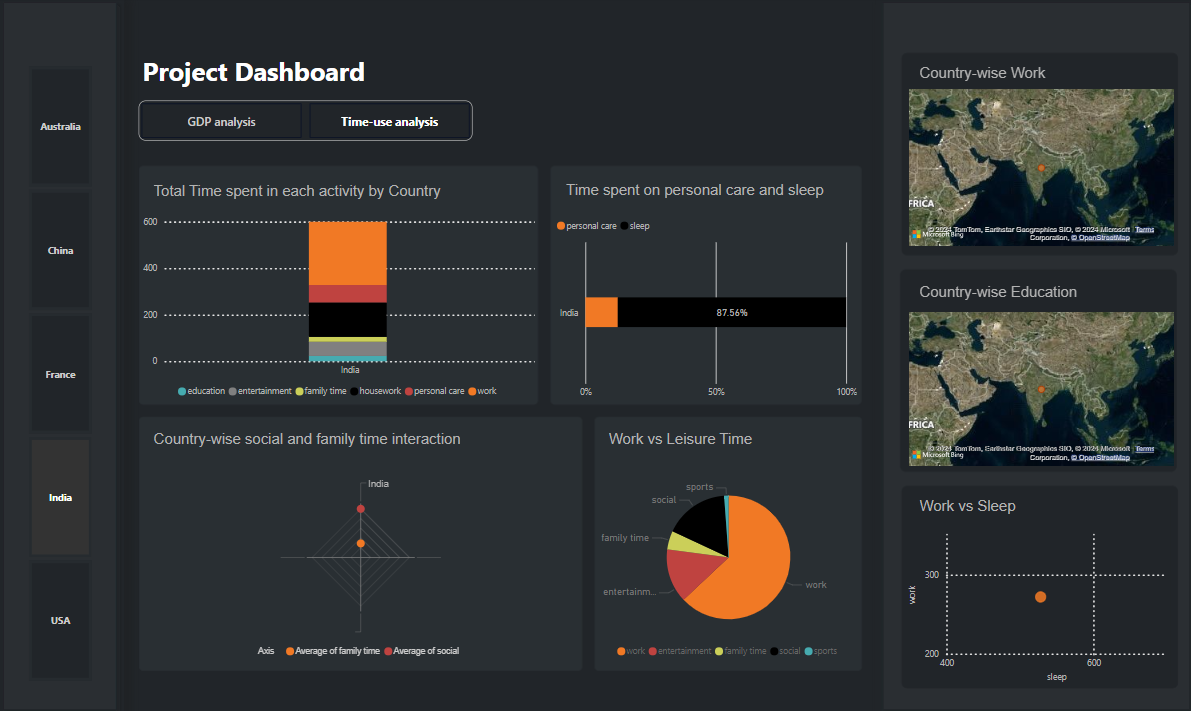

Layout of this report page (visuals, bound fields, positions):
{"tool":"powerbi","page":{"name":"Time-use analysis","canvas":[1500,900],"ordinal":1},"visuals":[{"type":"textbox","box":[177.1,67,299.1,63.6],"z":0},{"type":"pageNavigator","box":[177.1,130.7,417.7,49.9],"z":1000},{"type":"textbox","box":[190.8,538.1,462.4,32.7],"z":2000},{"type":"textbox","box":[759.8,538.1,319.8,36.1],"z":3000},{"type":"textbox","box":[706.5,226.9,361,32.7],"z":4000},{"type":"textbox","box":[191.4,228.6,474.3,31.4],"z":5000},{"type":"columnChart","fields":{"Category":["minutes.country"],"Y":["Avg(minutes.education)","Avg(minutes.entertainment)","Avg(minutes.family time)","Avg(minutes.housework)","Avg(minutes.personal care)","Sum(minutes.work)"]},"box":[177.1,268.2,500.3,244.1],"z":6000},{"type":"map","fields":{"Category":["minutes.country"],"Size":["Avg(minutes.work)"]},"box":[1134.6,111.7,342.1,206.3],"z":7000},{"type":"pieChart","fields":{"Y":["Sum(minutes.work)","Sum(minutes.entertainment)","Sum(minutes.family time)","Sum(minutes.social)","Sum(minutes.sports)"]},"box":[749.5,593.1,330.1,244.1],"z":8000},{"type":"hundredPercentStackedBarChart","title":"How people spend their time","fields":{"Category":["minutes.country"],"Y":["Sum(minutes.personal care)","Sum(minutes.sleep)"]},"box":[694.5,268.2,385.1,244.1],"z":9000},{"type":"map","fields":{"Category":["minutes.country"],"Size":["Sum(minutes.education)"]},"box":[1134.6,390.2,342.1,202.9],"z":10000},{"type":"scatterChart","fields":{"X":["Sum(minutes.sleep)"],"Y":["Sum(minutes.work)"],"Category":["minutes.country"]},"box":[1134.6,660.1,342.1,202.9],"z":11000},{"type":"slicer","fields":{"Values":["minutes.country"]},"box":[13.8,80.8,128.9,782.2],"z":12000},{"type":"RadarChart1446119667547","fields":{"Category":["minutes.country"],"Y":["Avg(minutes.family time)","Avg(minutes.social)"]},"box":[177.1,593.1,555.3,244.1],"z":13000},{"type":"textbox","box":[1148.4,354.1,232.1,36.1],"z":14000},{"type":"textbox","box":[1148.4,80.8,230.4,37.8],"z":15000},{"type":"textbox","box":[1148.4,622.3,139.2,37.8],"z":16000}]}

Visuals, with their boxes in screenshot pixels (x1, y1, x2, y2), scaled from the page's 1500x900 canvas onto the 1191x711 screenshot:
textbox: l=141, t=53, r=378, b=103
pageNavigator: l=141, t=103, r=472, b=143
textbox: l=151, t=425, r=519, b=451
textbox: l=603, t=425, r=857, b=454
textbox: l=561, t=179, r=848, b=205
textbox: l=152, t=181, r=529, b=205
columnChart - minutes.country x Avg(minutes.education): l=141, t=212, r=538, b=405
map - minutes.country x Avg(minutes.work): l=901, t=88, r=1172, b=251
pieChart - Sum(minutes.work) x Sum(minutes.entertainment): l=595, t=469, r=857, b=661
"How people spend their time" hundredPercentStackedBarChart: l=551, t=212, r=857, b=405
map - minutes.country x Sum(minutes.education): l=901, t=308, r=1172, b=469
scatterChart - Sum(minutes.sleep) x Sum(minutes.work): l=901, t=521, r=1172, b=682
slicer - minutes.country: l=11, t=64, r=113, b=682
RadarChart1446119667547 - minutes.country x Avg(minutes.family time): l=141, t=469, r=582, b=661
textbox: l=912, t=280, r=1096, b=308
textbox: l=912, t=64, r=1095, b=94
textbox: l=912, t=492, r=1022, b=521
